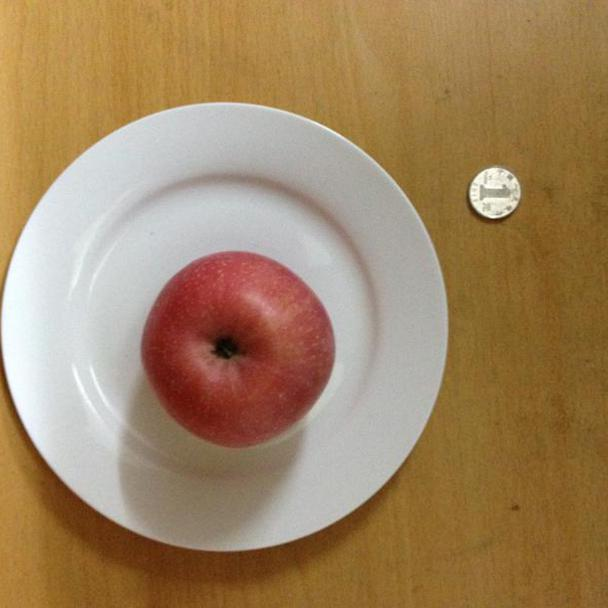apple: (139, 249, 338, 449)
